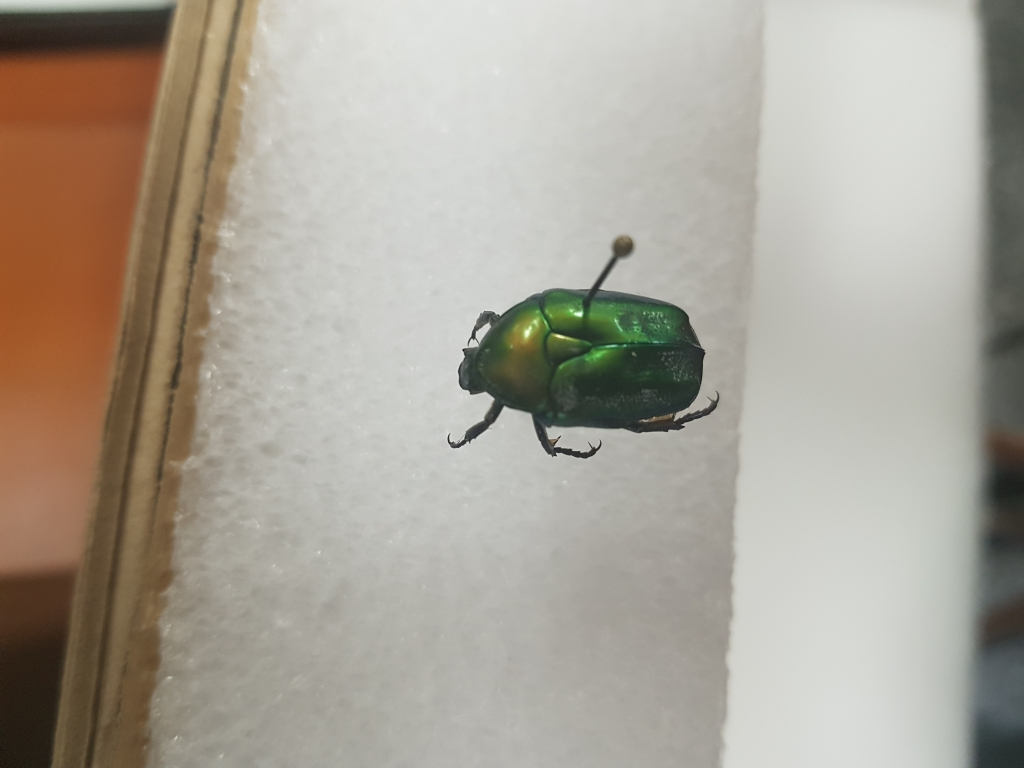Protaetia_cuprea_ignicollis: (433, 278, 731, 466)
